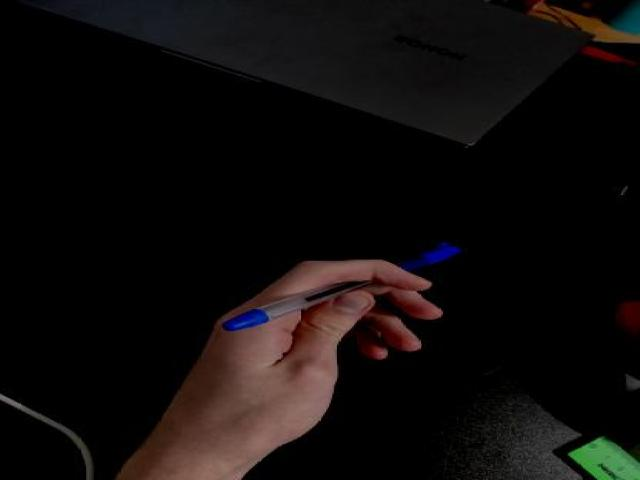PEN: (219, 226, 470, 339)
